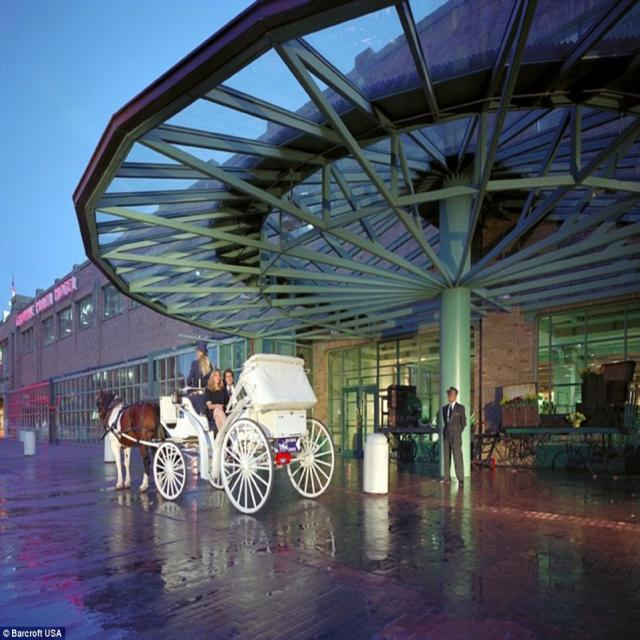body: (438, 385, 468, 487), (204, 368, 230, 432), (185, 340, 215, 389), (222, 368, 238, 417)
